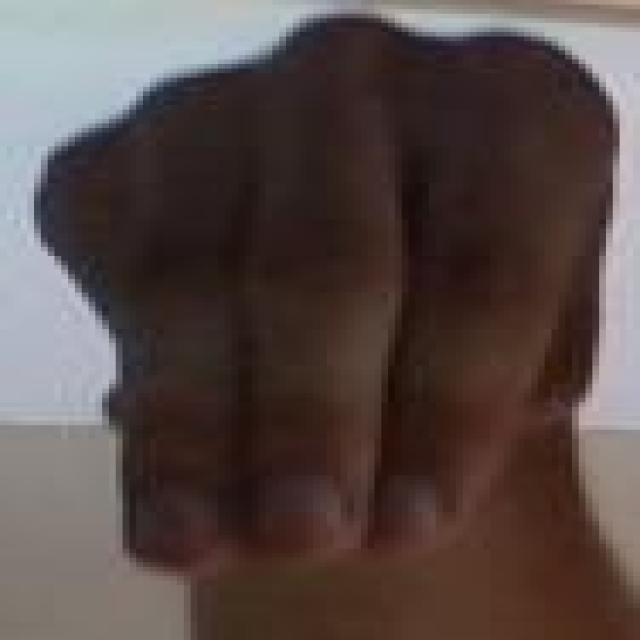M: (26, 9, 629, 601)
